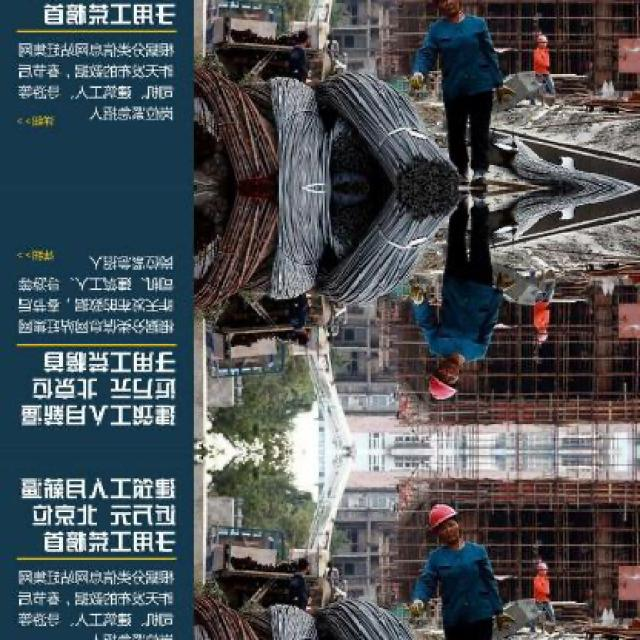sin casco: (414, 343, 484, 404)
